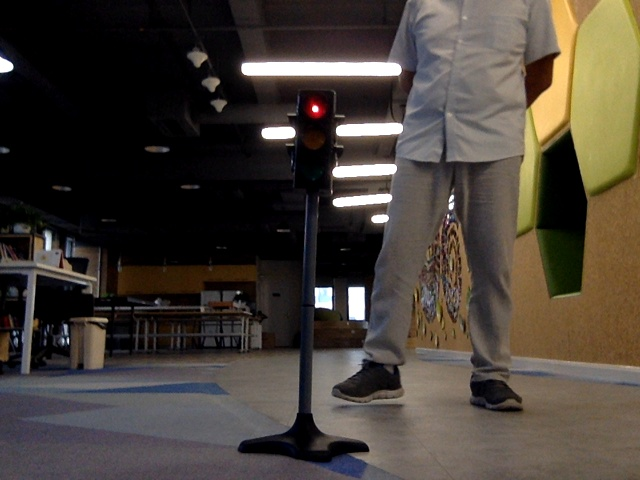red: (298, 94, 328, 188)
